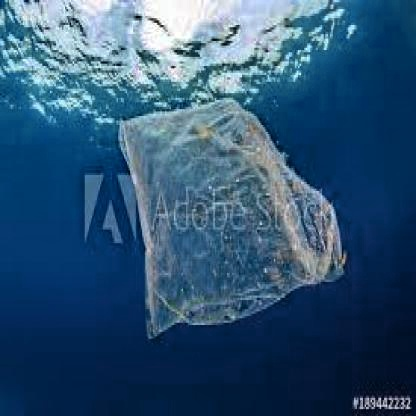pbag: (118, 98, 348, 343)
